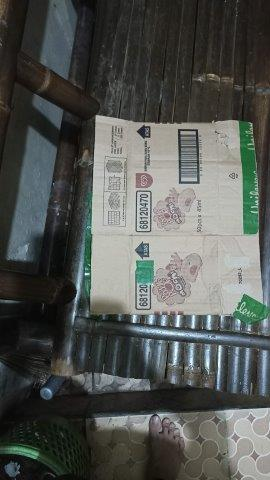kardus: (90, 115, 263, 316)
